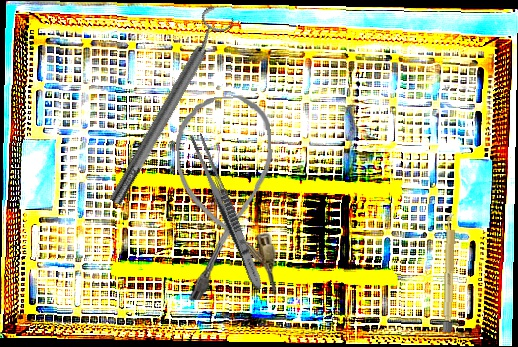Cannula: (173, 94, 280, 301)
Dressing Forceps: (186, 130, 268, 293)
Fixation Ring: (97, 3, 239, 211)
Scalpel Handle: (442, 213, 457, 333)
